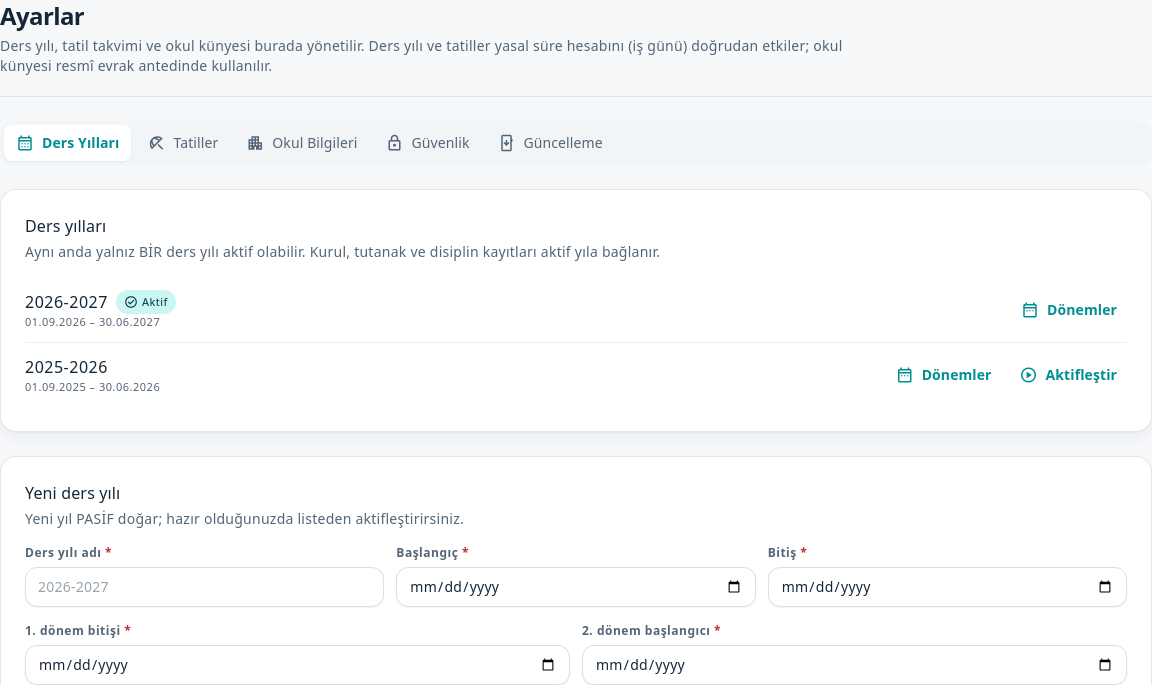
Test: AyarlarPage — okul bilgileri › okul adı boşken kaydetmeye çalışınca alan hatası gösterilir
Check: the text "2026-2027" is shown, box [25,291,108,313]
Click the tab "Okul Bilgileri" at (302, 143), box [234,125,370,161]
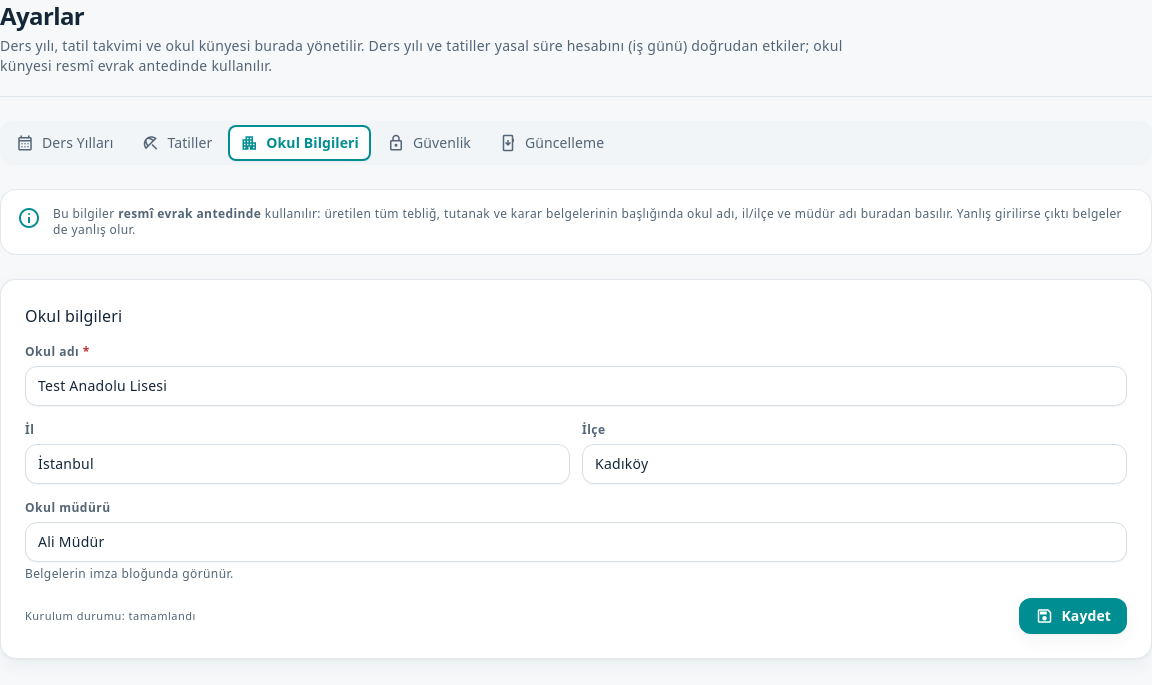
Clear the field labelled "Okul adı *" at (576, 386), box [38,376,1114,396]
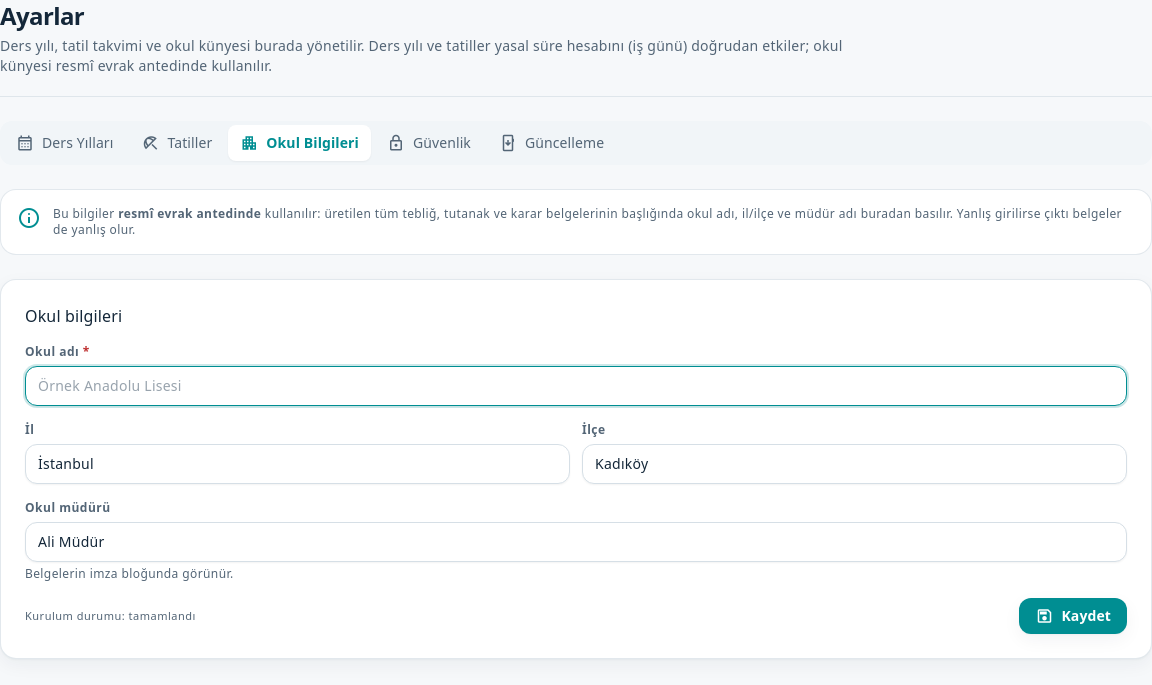
Click the button "Kaydet" at (1073, 616), box [1020,598,1127,634]
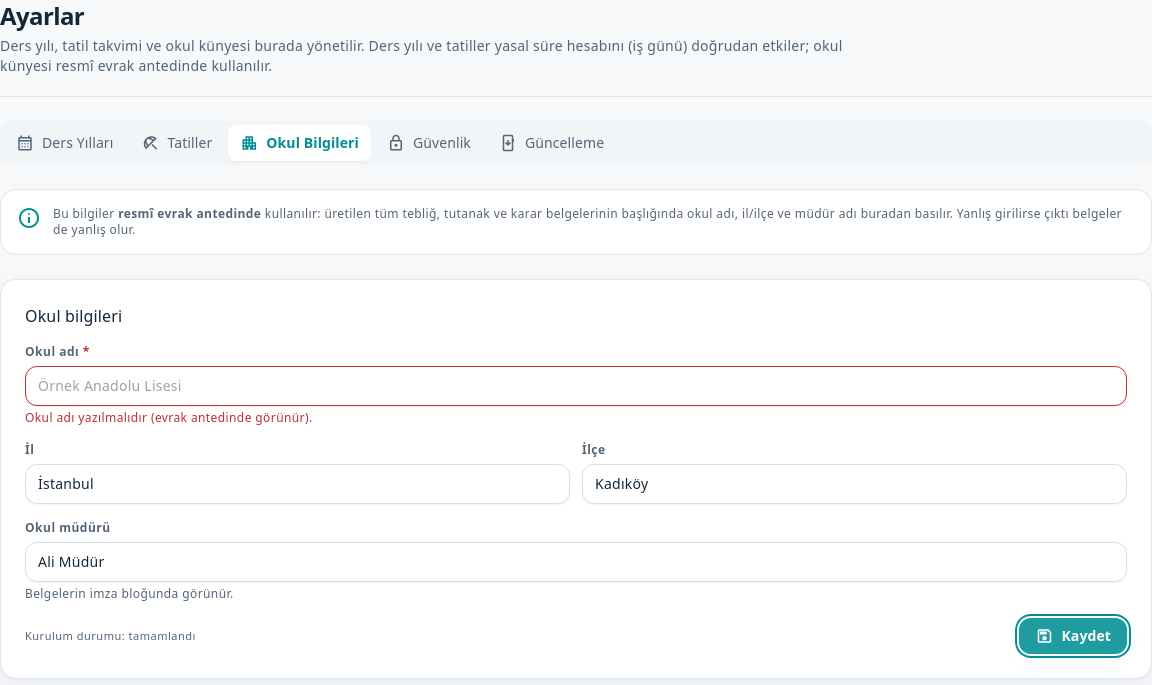
Check: the text "Okul adı yazılmalıdır (evrak antedinde görünür)." is shown, box [25,409,312,426]
